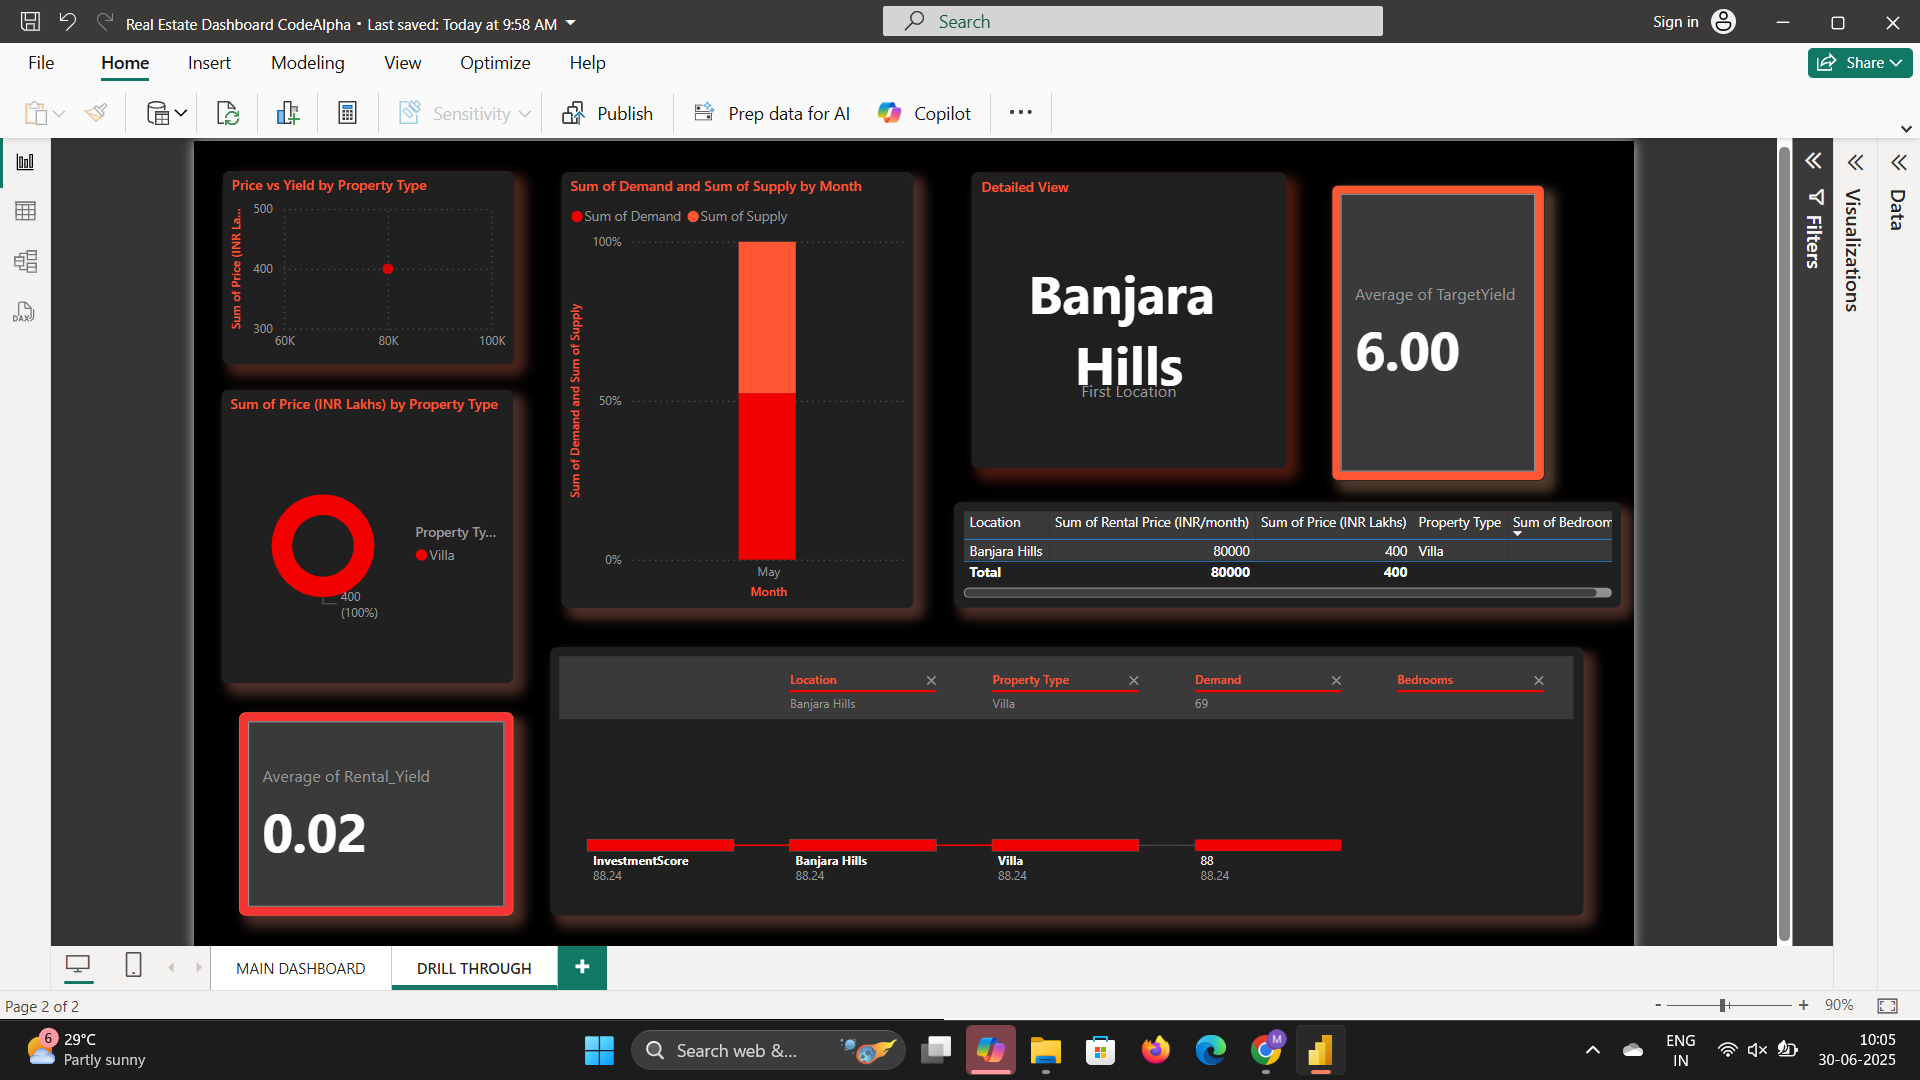

The dashboard page shown, as its layout file describes it:
{"tool":"powerbi","page":{"name":"DRILL THROUGH","canvas":[1280,720],"ordinal":1},"visuals":[{"type":"card","title":"Detailed View","fields":{"Values":["Min(RealEstate_Market_India.Location)"]},"box":[691.6,27.4,279.9,263.5],"z":0},{"type":"cardVisual","fields":{"Data":["Avg(RealEstate_Market_India.Rental_Yield)"]},"box":[39.8,507.7,244.3,181.1],"z":1000},{"type":"hundredPercentStackedColumnChart","fields":{"Y":["Sum(RealEstate_Market_India.Demand)","Sum(RealEstate_Market_India.Supply)"],"Category":["RealEstate_Market_India.Date.Variation.Date Hierarchy.Month"]},"box":[326.6,27.4,312.9,387],"z":2000},{"type":"decompositionTreeVisual","fields":{"Analyze":["RealEstate_Market_India.InvestmentScore"],"ExplainBy":["RealEstate_Market_India.Location","RealEstate_Market_India.Property Type","RealEstate_Market_India.Demand","RealEstate_Market_India.Bedrooms"]},"box":[317,450.1,918,238.8],"z":3000},{"type":"donutChart","fields":{"Category":["RealEstate_Market_India.Property Type"],"Y":["Sum(RealEstate_Market_India.Price (INR Lakhs))"]},"box":[24.7,220.9,259.3,260.7],"z":4000},{"type":"tableEx","fields":{"Values":["RealEstate_Market_India.Location","Sum(RealEstate_Market_India.Rental Price (INR/month))","Sum(RealEstate_Market_India.Price (INR Lakhs))","RealEstate_Market_India.Property Type","Sum(RealEstate_Market_India.Bedrooms)"]},"box":[675.1,321.1,592.8,93.3],"z":5000},{"type":"scatterChart","title":"Price vs Yield by Property Type","fields":{"X":["Sum(RealEstate_Market_India.Rental Price (INR/month))"],"Y":["Sum(RealEstate_Market_India.Price (INR Lakhs))"],"Category":["RealEstate_Market_India.Property Type"]},"box":[25,27,259,172],"z":6000},{"type":"cardVisual","fields":{"Data":["Avg(TargetYield.TargetYield)"]},"box":[1011.3,38.4,189.4,263.5],"z":6001}]}

Visuals, with their boxes on the page's 1280x720 design canvas (x1, y1, x2, y2). These are canvas units, not pixel positions in the 1920x1080 screenshot, which may show the page scaled, cropped or inside an application window:
"Detailed View" card: {"left": 692, "top": 27, "right": 972, "bottom": 291}
cardVisual - Avg(RealEstate_Market_India.Rental_Yield): {"left": 40, "top": 508, "right": 284, "bottom": 689}
hundredPercentStackedColumnChart - Sum(RealEstate_Market_India.Demand) x Sum(RealEstate_Market_India.Supply): {"left": 327, "top": 27, "right": 640, "bottom": 414}
decompositionTreeVisual - RealEstate_Market_India.InvestmentScore x RealEstate_Market_India.Location: {"left": 317, "top": 450, "right": 1235, "bottom": 689}
donutChart - RealEstate_Market_India.Property Type x Sum(RealEstate_Market_India.Price (INR Lakhs)): {"left": 25, "top": 221, "right": 284, "bottom": 482}
tableEx - RealEstate_Market_India.Location x Sum(RealEstate_Market_India.Rental Price (INR/month)): {"left": 675, "top": 321, "right": 1268, "bottom": 414}
"Price vs Yield by Property Type" scatterChart: {"left": 25, "top": 27, "right": 284, "bottom": 199}
cardVisual - Avg(TargetYield.TargetYield): {"left": 1011, "top": 38, "right": 1201, "bottom": 302}
